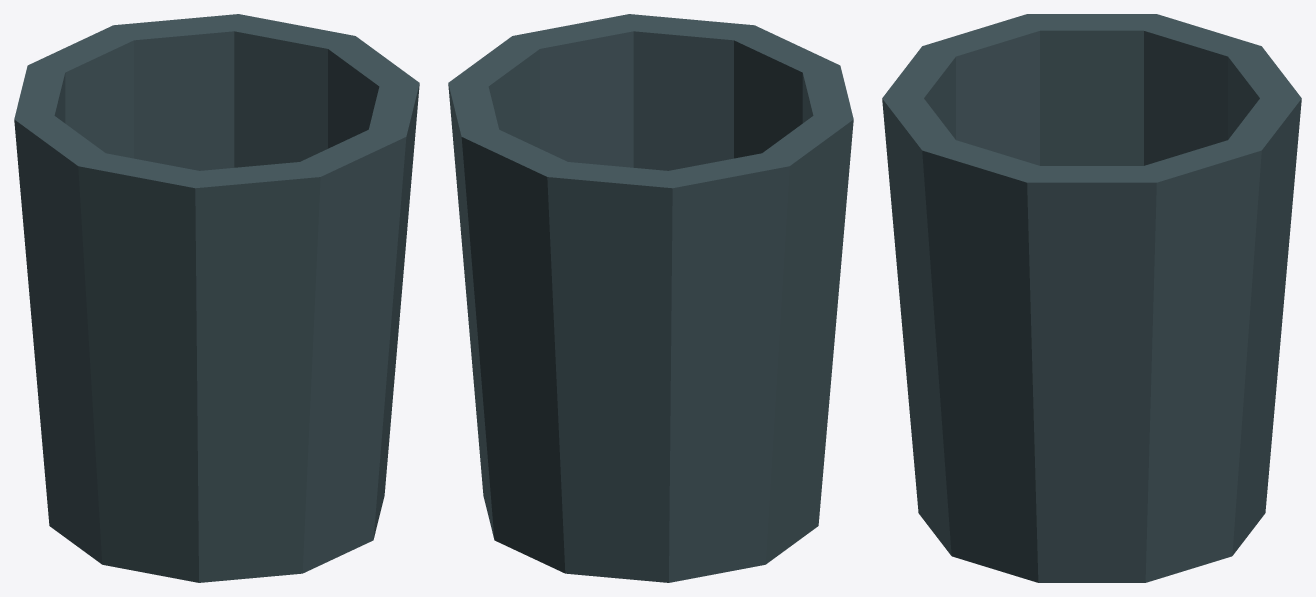
Rendered from tachodebasura.fbx.
3 views of the same model, side by side, from view 1: azimuth 30°, elevation 25°; view 2: azimuth 150°, elevation 25°; view 3: azimuth 270°, elevation 25° (orthographic).
Visible parts, largest first — view 1: Cylinder.001; view 2: Cylinder.001; view 3: Cylinder.001.
Boxes of the visible parts, bbox=[...] form: Cylinder.001: bbox=[14, 14, 419, 582]; Cylinder.001: bbox=[448, 14, 853, 582]; Cylinder.001: bbox=[882, 14, 1301, 582].
Size of the model in its own units: 185 by 212 by 194.
